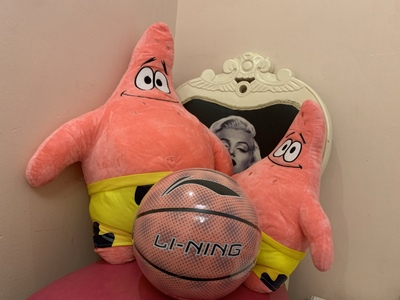ball: (131, 167, 259, 300)
